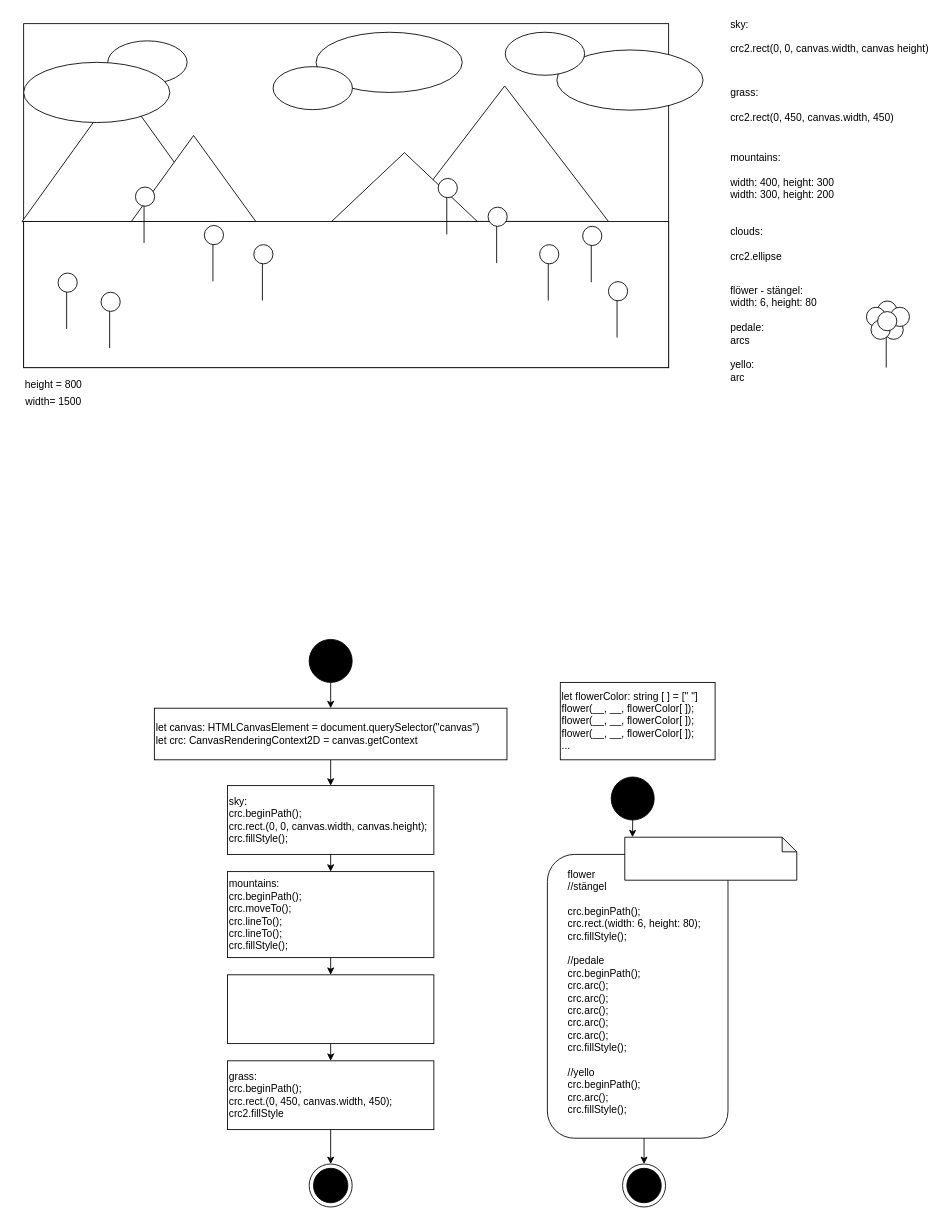
This 950x1222 diagram has some shape labels left out. The box of each missing label's shape, as (x1, y1, x2, y2) in pixels:
clouds: crc.beginPath(); crc.ellipse(); crc2.fillStyle: (227, 974, 434, 1044)
x: number, y: number, color: string): (624, 836, 797, 880)
